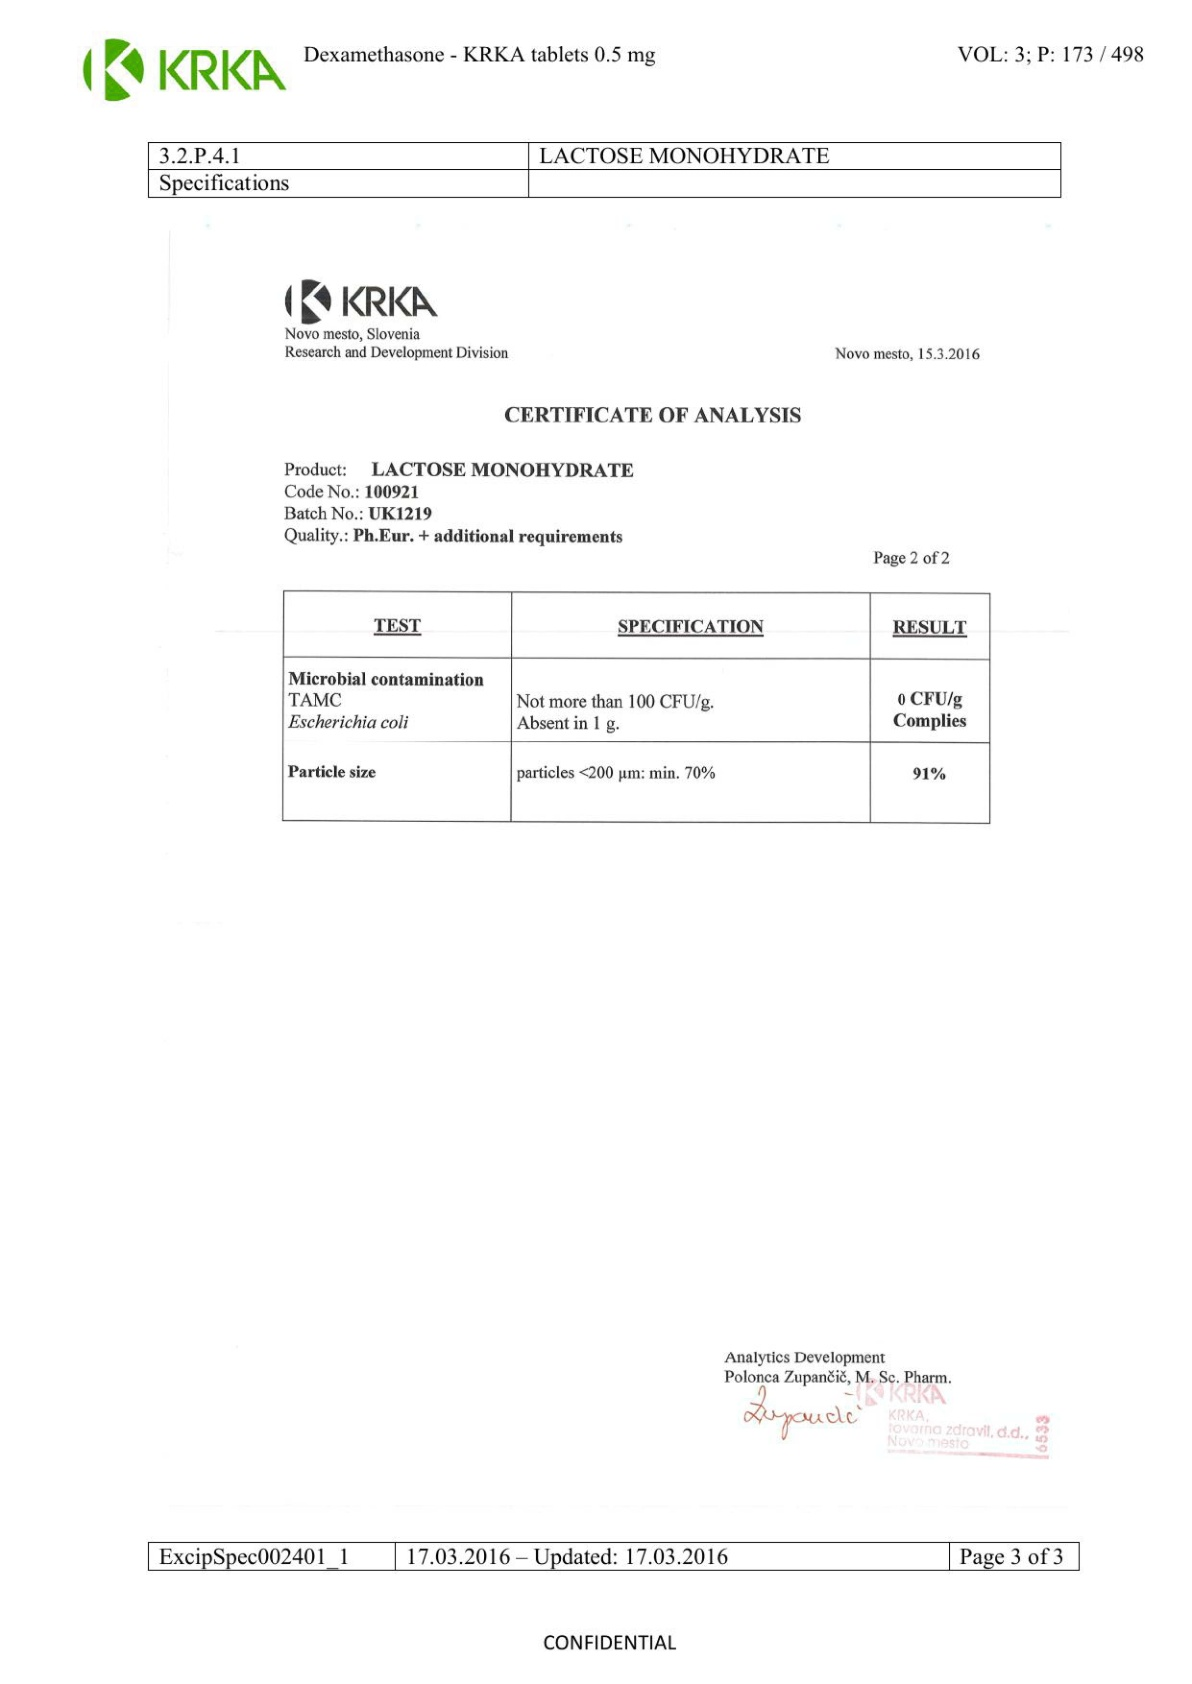full_lined: (281, 591, 991, 825), (146, 141, 1062, 199), (147, 1541, 1080, 1572)
